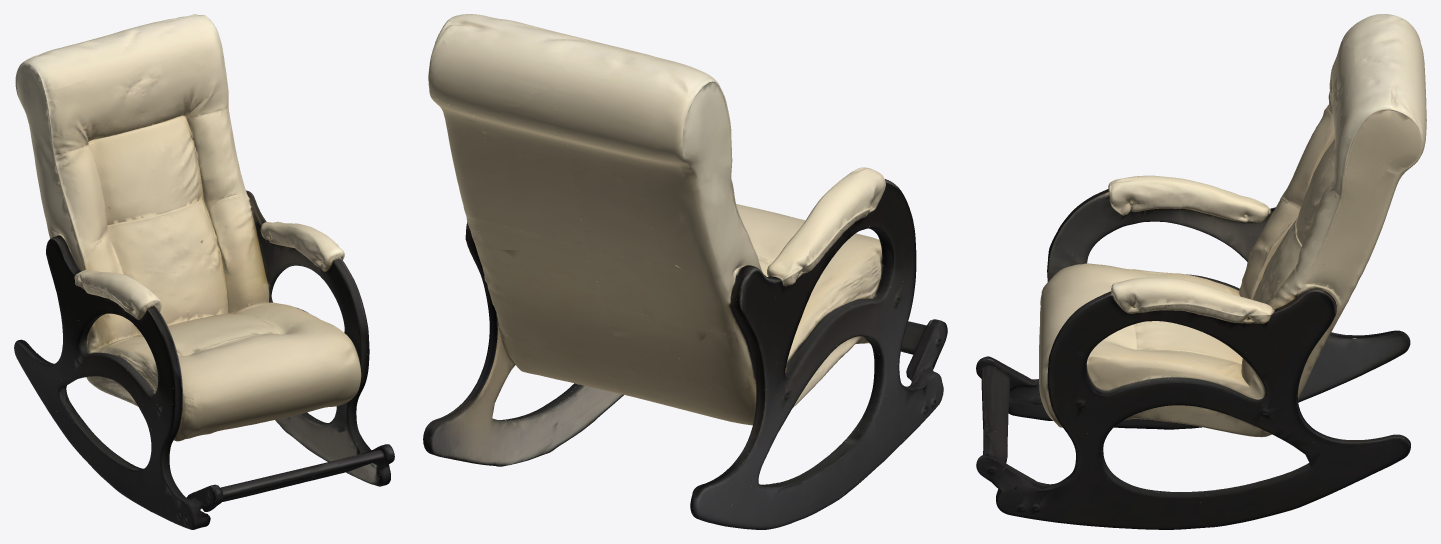
File: ch-kach04.glb
3 renders of one model, left to right at view 1: azimuth 30°, elevation 25°; view 2: azimuth 150°, elevation 25°; view 3: azimuth 270°, elevation 25°, orthographic. The views are drawn at different scales.
Parts seen in each view (by area): view 1: tripo_node_67291f36-e049-47f0-a885-a0a8a2b33927; view 2: tripo_node_67291f36-e049-47f0-a885-a0a8a2b33927; view 3: tripo_node_67291f36-e049-47f0-a885-a0a8a2b33927.
Boxes of the visible parts, x1,y1,x2,y2 form: tripo_node_67291f36-e049-47f0-a885-a0a8a2b33927: (14,14,394,529); tripo_node_67291f36-e049-47f0-a885-a0a8a2b33927: (423,14,947,529); tripo_node_67291f36-e049-47f0-a885-a0a8a2b33927: (976,14,1426,529).
Bounding box in the file's own units: 0.6045 × 1 × 0.9739.
Materials: 1 (1 with a texture image).
